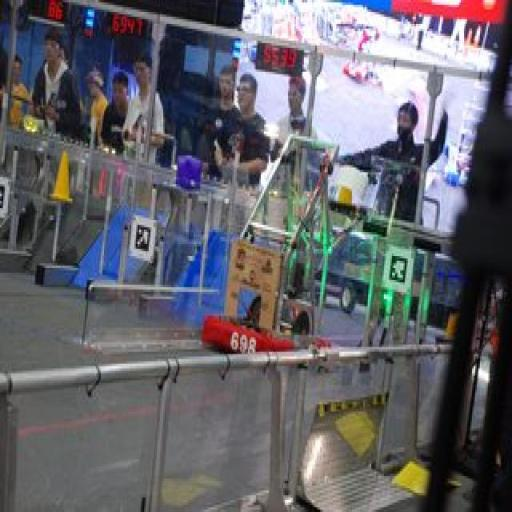robot: (200, 131, 340, 368)
